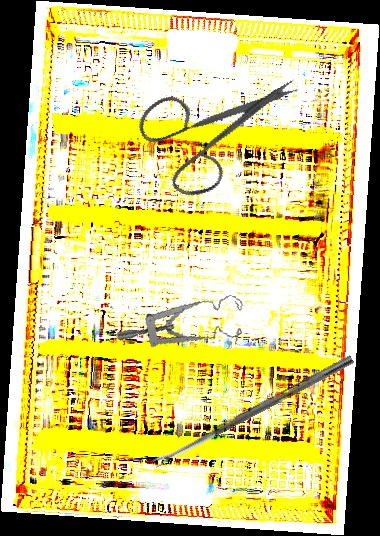Iris Scissors: (119, 29, 304, 220)
Speculum: (115, 272, 250, 367)
Surgical Spoon: (151, 354, 355, 468)
